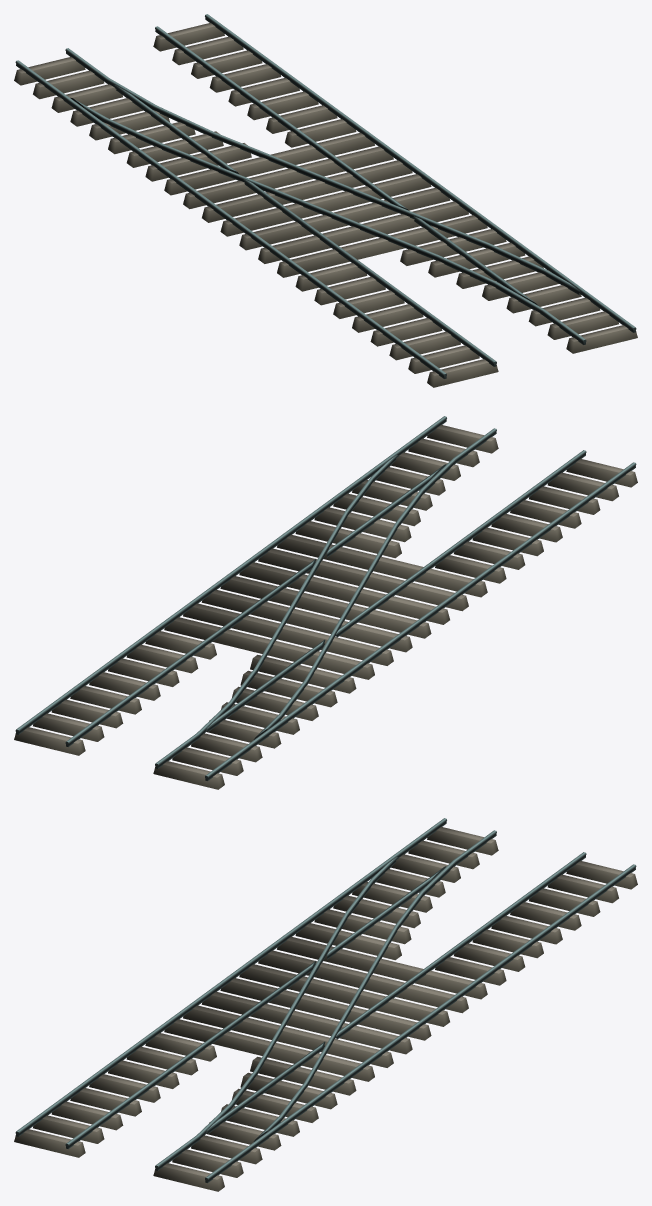
Rendered from Train_Tracks_1C.fbx.
3 renders of one model, top to bottom at view 1: azimuth 30°, elevation 25°; view 2: azimuth 150°, elevation 25°; view 3: azimuth 330°, elevation 25°, orthographic.
Visible parts, largest first — view 1: Train_Tracks_1C; view 2: Train_Tracks_1C; view 3: Train_Tracks_1C.
Boxes of the visible parts, x1,y1,x2,y2 form: Train_Tracks_1C: (14,14,637,387); Train_Tracks_1C: (14,416,637,789); Train_Tracks_1C: (14,818,637,1191).
Size of the model in its own units: 8.8 by 0.625 by 31.94.
